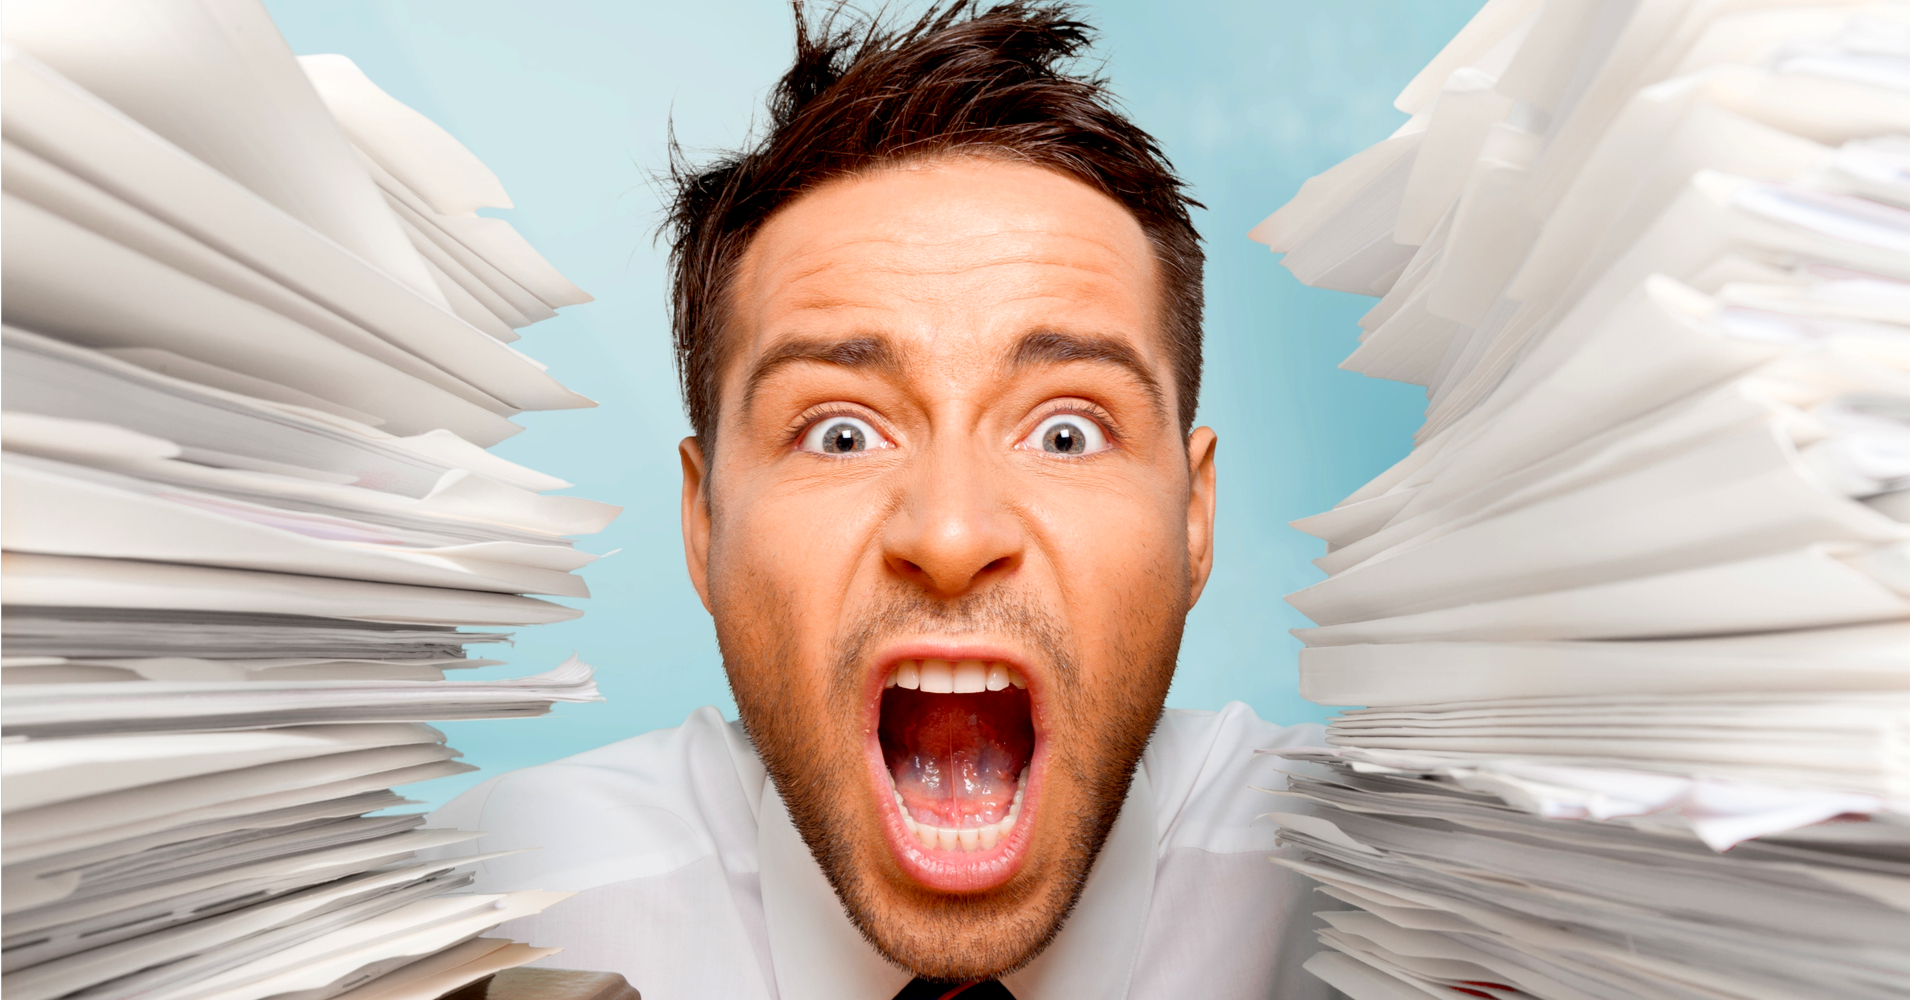human: (576, 10, 1268, 1000)
